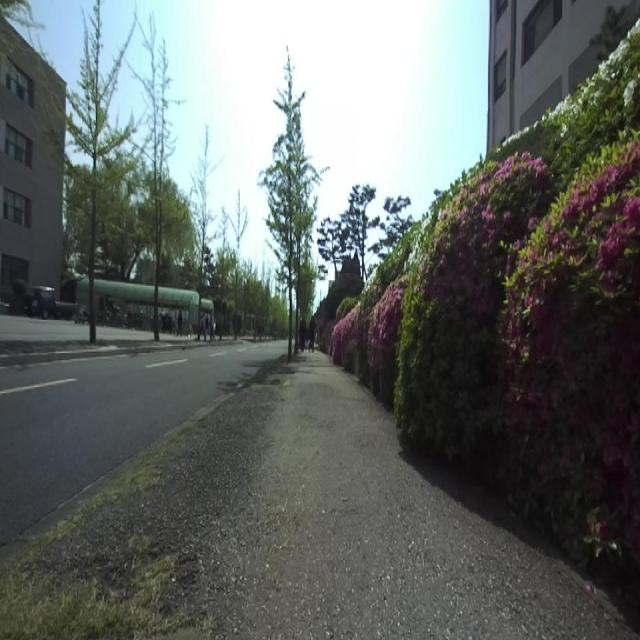sidewalk: (0, 351, 638, 639), (0, 333, 89, 341), (96, 334, 154, 340), (160, 336, 197, 340)
